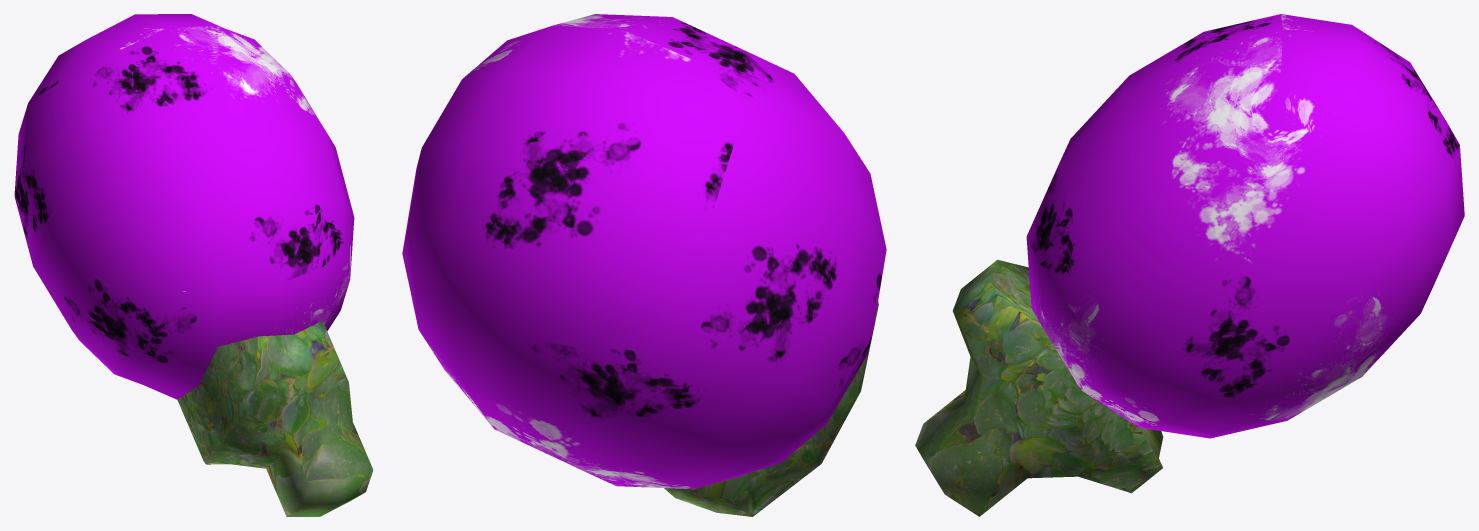
Rendered from Drunefruit.glb.
The picture shows the model from 3 angles, left to right: view 1: azimuth 30°, elevation 25°; view 2: azimuth 150°, elevation 25°; view 3: azimuth 270°, elevation 25°; orthographic projection. The views are drawn at different scales.
Parts seen in each view (by area): view 1: Fruits, Leaves; view 2: Fruits, Leaves; view 3: Fruits, Leaves.
Boxes of the visible parts, <box> form: Fruits: <box>14,14,354,399</box>; Leaves: <box>177,321,373,516</box>; Fruits: <box>402,14,886,489</box>; Leaves: <box>664,301,878,516</box>; Fruits: <box>1026,14,1464,438</box>; Leaves: <box>915,259,1163,516</box>.
Size of the model in its own units: 10.68 by 14.52 by 15.58.
Materials: 2 (2 with a texture image).
